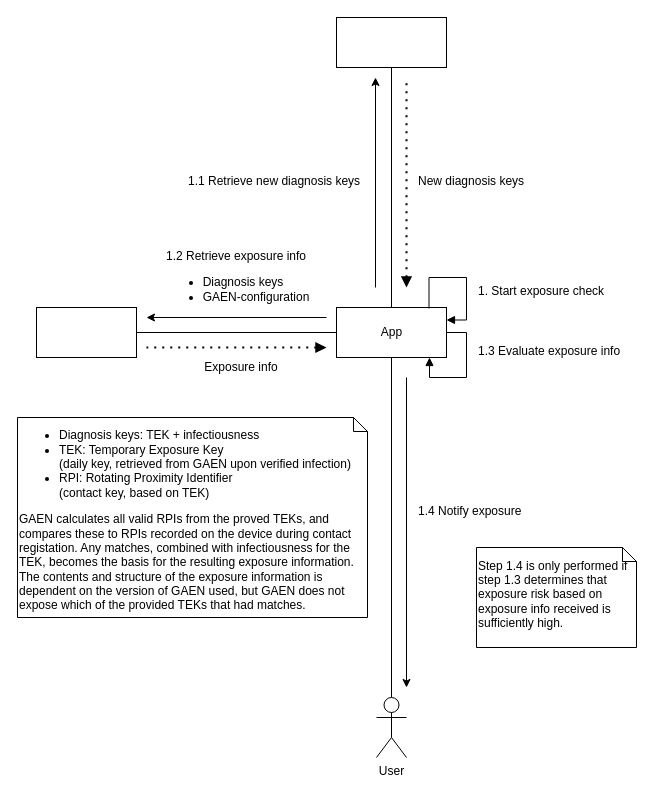
This 664x796 diagram has some shape labels left out. Each missing label, with the box of its shape:
Backend: (336, 16, 446, 68)
GAEN: (36, 306, 136, 358)
